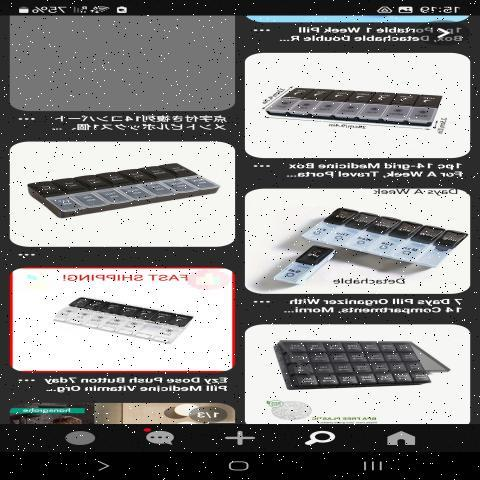PillBox: (17, 151, 221, 237), (269, 326, 449, 402), (257, 70, 454, 135), (296, 204, 467, 268), (32, 296, 206, 344)
